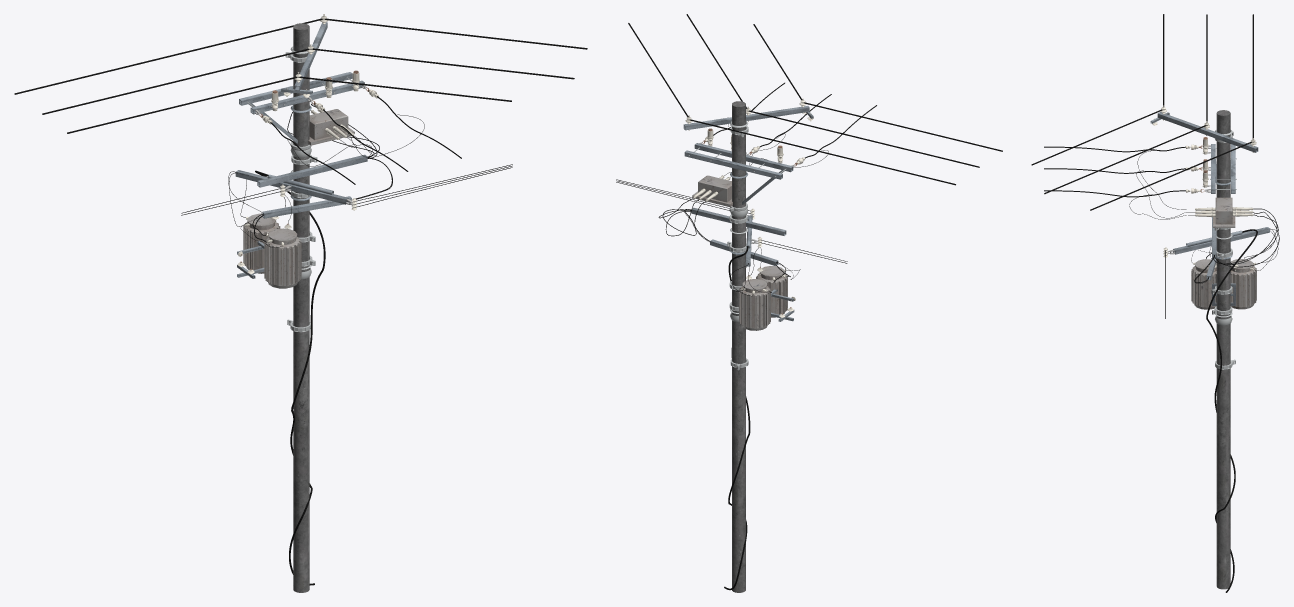
File: japanese_electric_pole.glb
3 renders of one model, left to right at view 1: azimuth 30°, elevation 25°; view 2: azimuth 150°, elevation 25°; view 3: azimuth 270°, elevation 25°, orthographic. The views are drawn at different scales.
Parts seen in each view (by area): view 1: Left, Cables; view 2: Left, Cables; view 3: Left, Cables.
Part boxes in pixels (x1,y1,x2,y2): Left: (235,14,378,592); Cables: (14,18,587,585); Left: (683,98,813,592); Cables: (616,14,1002,590); Left: (1150,105,1269,589); Cables: (1031,14,1279,592).
Size of the model in its own units: 6.98 by 7.88 by 3.74.
Materials: 2 (2 with a texture image).
